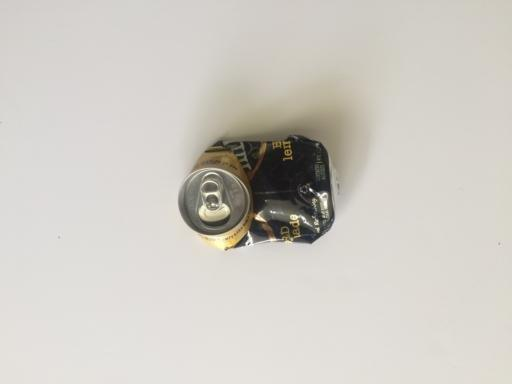kaleng: (179, 136, 338, 248)
